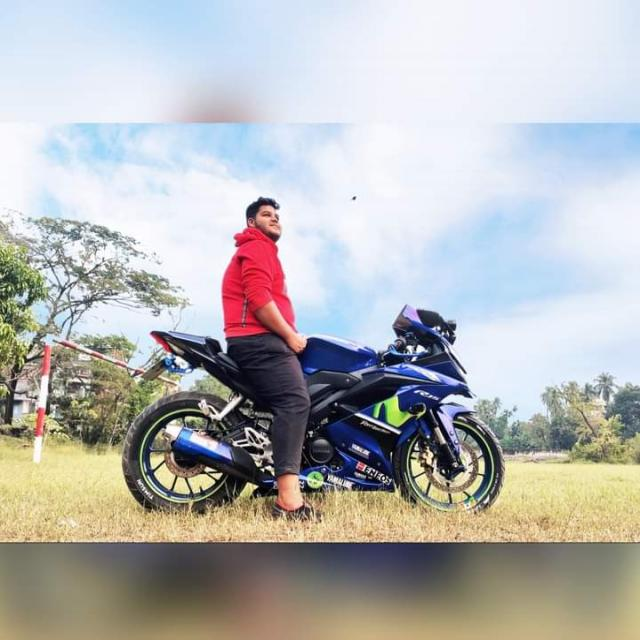Not Wearing Helmet: (242, 157, 348, 268)
